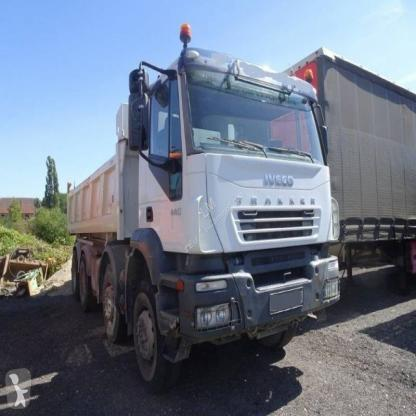dump_truck: (51, 32, 350, 396)
